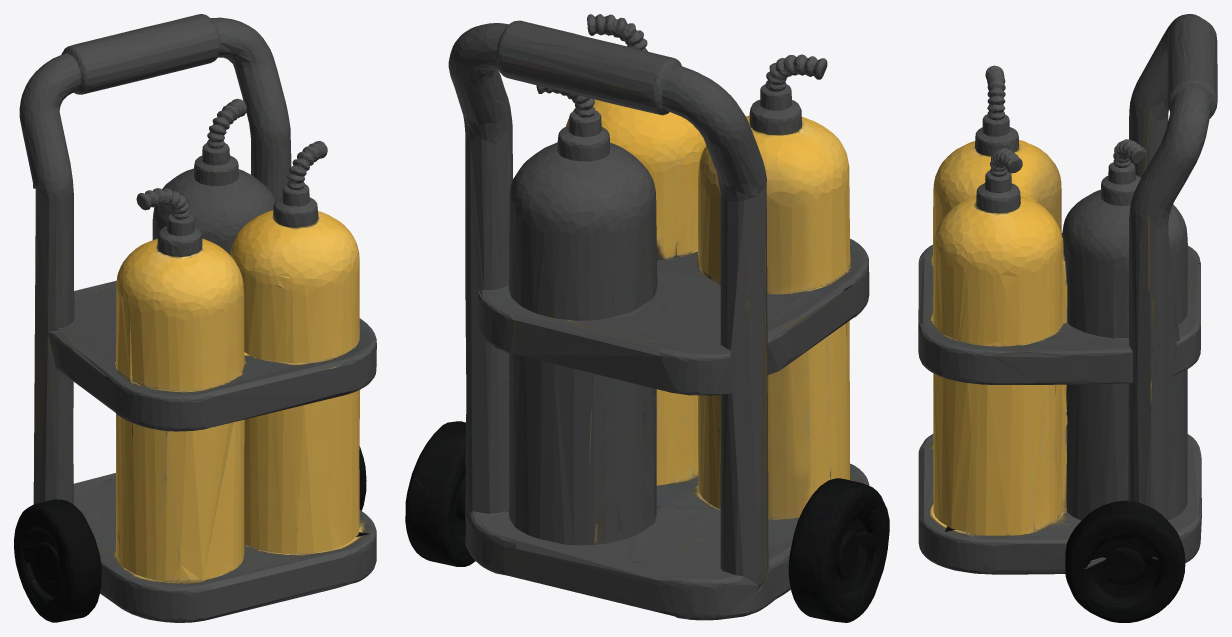
File: gascart_v1.glb
3 views of the same model, side by side, from view 1: azimuth 30°, elevation 25°; view 2: azimuth 150°, elevation 25°; view 3: azimuth 270°, elevation 25° (orthographic). The views are drawn at different scales.
Parts seen in each view (by area): view 1: body_mesh, nozzle_mesh, wheelL_mesh, wheelR_mesh; view 2: body_mesh, nozzle_mesh, wheelL_mesh, wheelR_mesh; view 3: body_mesh, nozzle_mesh, wheelR_mesh.
Boxes of the visible parts, x1,y1,x2,y2 form: body_mesh: (14, 136, 376, 622); nozzle_mesh: (19, 14, 327, 256); wheelL_mesh: (14, 538, 199, 622); wheelR_mesh: (355, 471, 376, 582); body_mesh: (405, 99, 889, 622); nozzle_mesh: (448, 14, 827, 201); wheelL_mesh: (676, 464, 889, 622); wheelR_mesh: (405, 470, 498, 570); body_mesh: (918, 109, 1201, 622); nozzle_mesh: (975, 14, 1217, 242); wheelR_mesh: (920, 520, 1197, 618).
Size of the model in its own units: 0.8 by 1.16 by 0.6329.
1 material, 1 textured.
